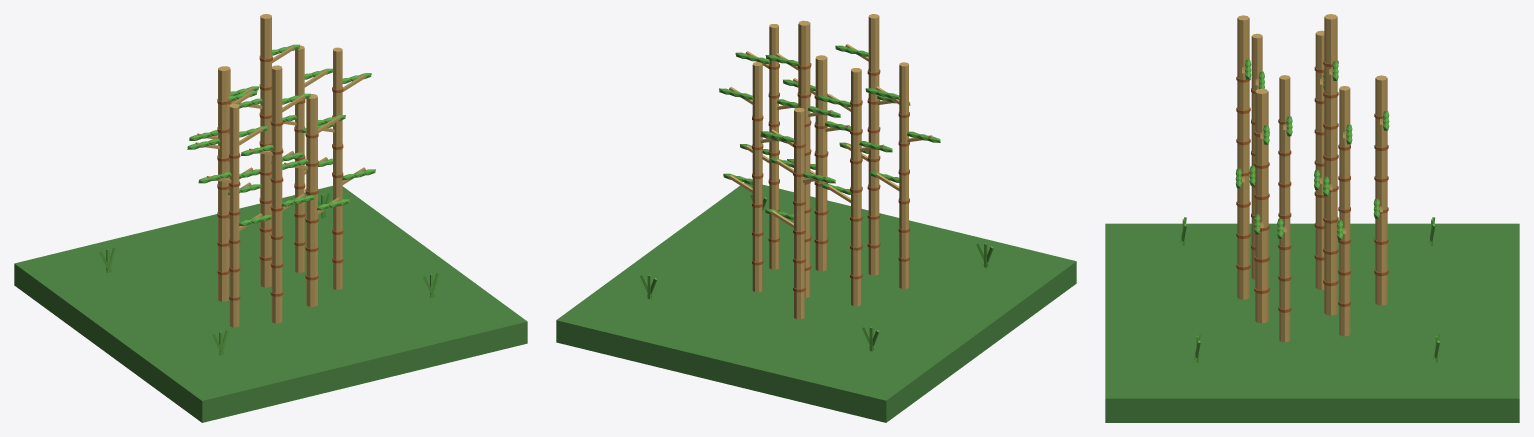
File: bamboo_grove.glb
3 views of the same model, side by side, from view 1: azimuth 30°, elevation 25°; view 2: azimuth 150°, elevation 25°; view 3: azimuth 270°, elevation 25° (orthographic). The views are drawn at different scales.
Visible parts, largest first — view 1: TerrainBase, BambooStem.001, BambooStem.005, BambooStem.002, BambooStem.004, BambooStem, BambooStem.003, BambooStem.006; view 2: TerrainBase, BambooStem.001, BambooStem.004, BambooStem.002, BambooStem.006, BambooStem.005, BambooStem.007, BambooStem, BambooStem.003; view 3: TerrainBase, BambooStem.005, BambooStem.001, BambooStem.002, BambooStem.003, BambooStem.006, BambooStem.007, BambooStem.004, BambooStem.
Part boxes in pixels (x1=…): TerrainBase: x1=14, y1=186, x2=527, y2=422; BambooStem.001: x1=271, y1=65, x2=282, y2=323; BambooStem.005: x1=260, y1=14, x2=271, y2=287; BambooStem.002: x1=306, y1=94, x2=317, y2=306; BambooStem.004: x1=218, y1=66, x2=228, y2=301; BambooStem: x1=229, y1=104, x2=239, y2=327; BambooStem.003: x1=333, y1=47, x2=342, y2=289; BambooStem.006: x1=295, y1=45, x2=304, y2=272; TerrainBase: x1=556, y1=182, x2=1076, y2=422; BambooStem.001: x1=868, y1=14, x2=879, y2=275; BambooStem.004: x1=851, y1=68, x2=861, y2=306; BambooStem.002: x1=815, y1=55, x2=827, y2=271; BambooStem.006: x1=752, y1=62, x2=762, y2=292; BambooStem.005: x1=798, y1=20, x2=810, y2=297; BambooStem.007: x1=794, y1=107, x2=804, y2=319; BambooStem: x1=899, y1=62, x2=908, y2=288; BambooStem.003: x1=769, y1=24, x2=778, y2=269; TerrainBase: x1=1105, y1=223, x2=1519, y2=422; BambooStem.005: x1=1324, y1=14, x2=1337, y2=315; BambooStem.001: x1=1237, y1=15, x2=1249, y2=299; BambooStem.002: x1=1255, y1=88, x2=1268, y2=323; BambooStem.003: x1=1279, y1=75, x2=1290, y2=342; BambooStem.006: x1=1339, y1=86, x2=1350, y2=336; BambooStem.007: x1=1375, y1=75, x2=1387, y2=305; BambooStem.004: x1=1315, y1=30, x2=1324, y2=289; BambooStem: x1=1251, y1=33, x2=1262, y2=279.
Bounding box in the file's own units: 9 × 7.69 × 9.
